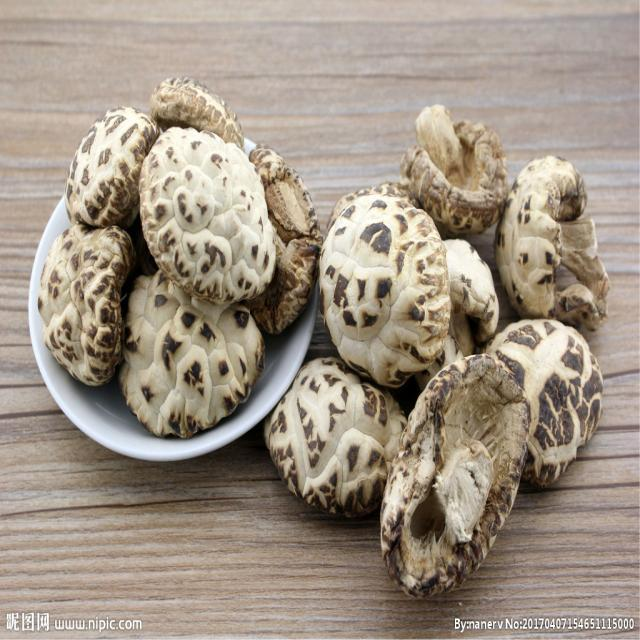Lentinus edodes: (383, 357, 530, 596), (119, 265, 263, 438), (319, 191, 449, 379), (140, 127, 277, 300), (261, 358, 406, 519), (486, 317, 605, 480), (502, 154, 610, 329), (38, 224, 126, 387), (402, 106, 505, 230), (68, 108, 159, 224)
